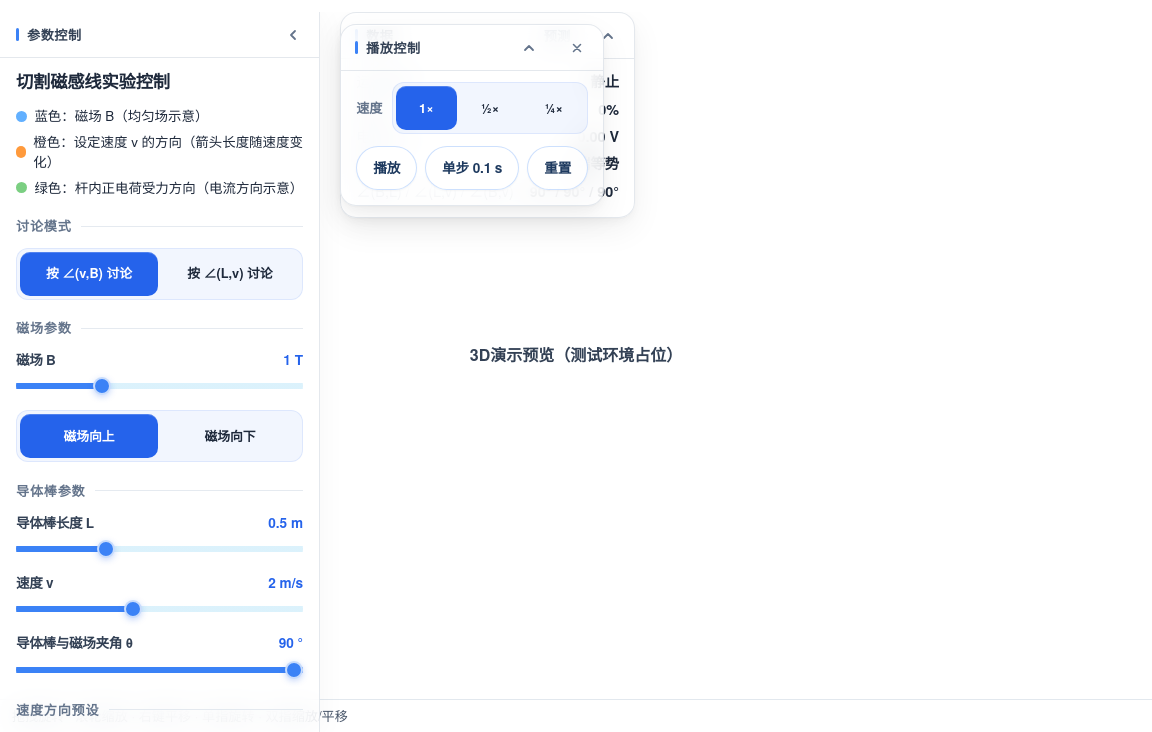
motional-emf structure › renders both discussion modes and updates voltage in each mode
Expected: the heading "切割磁感线实验控制" is shown, [16,69,170,93]
Expected: the heading "速度方向预设" is shown, [16,700,99,719]
Click the button "播放". click: (387, 168)
box: [356,146,417,190]
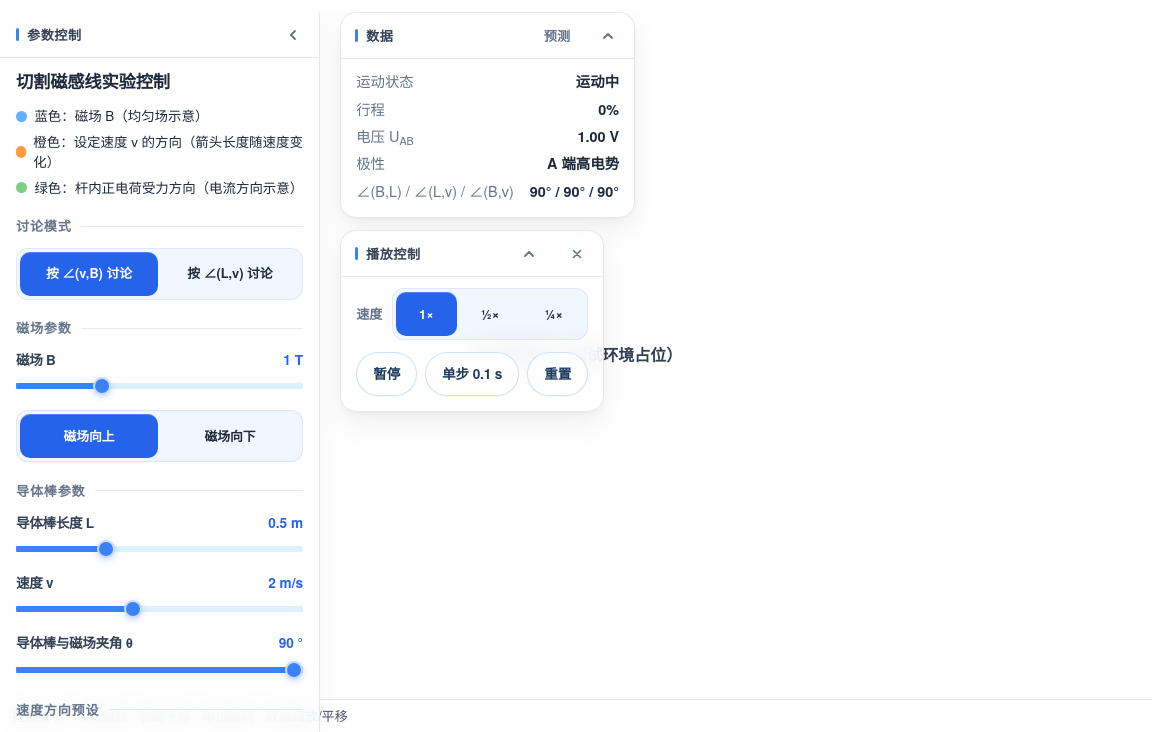
Now the text "1.00 V" is shown, box [577,126,619,148]
Click the button "暂停". click: (387, 374)
box: [356,352,417,396]
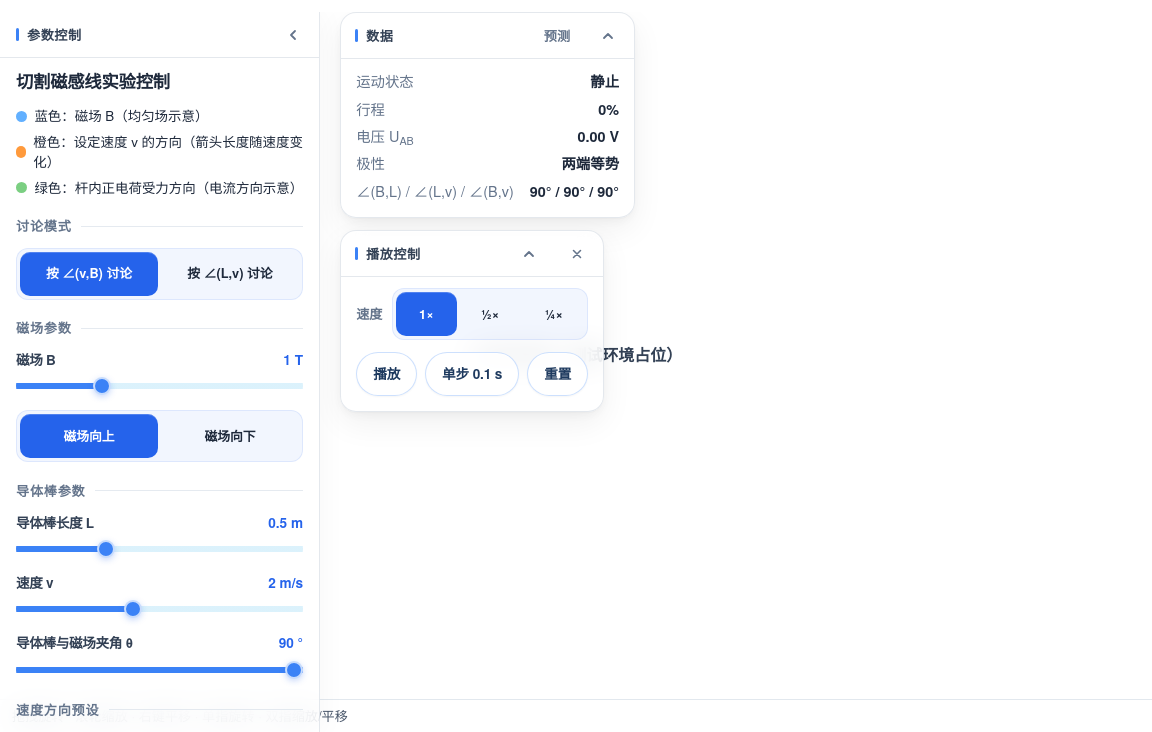
Click the radio button labelled "按 ∠(L,v) 讨论". click: (230, 274)
box: [161,252,299,296]
(page scrolled)
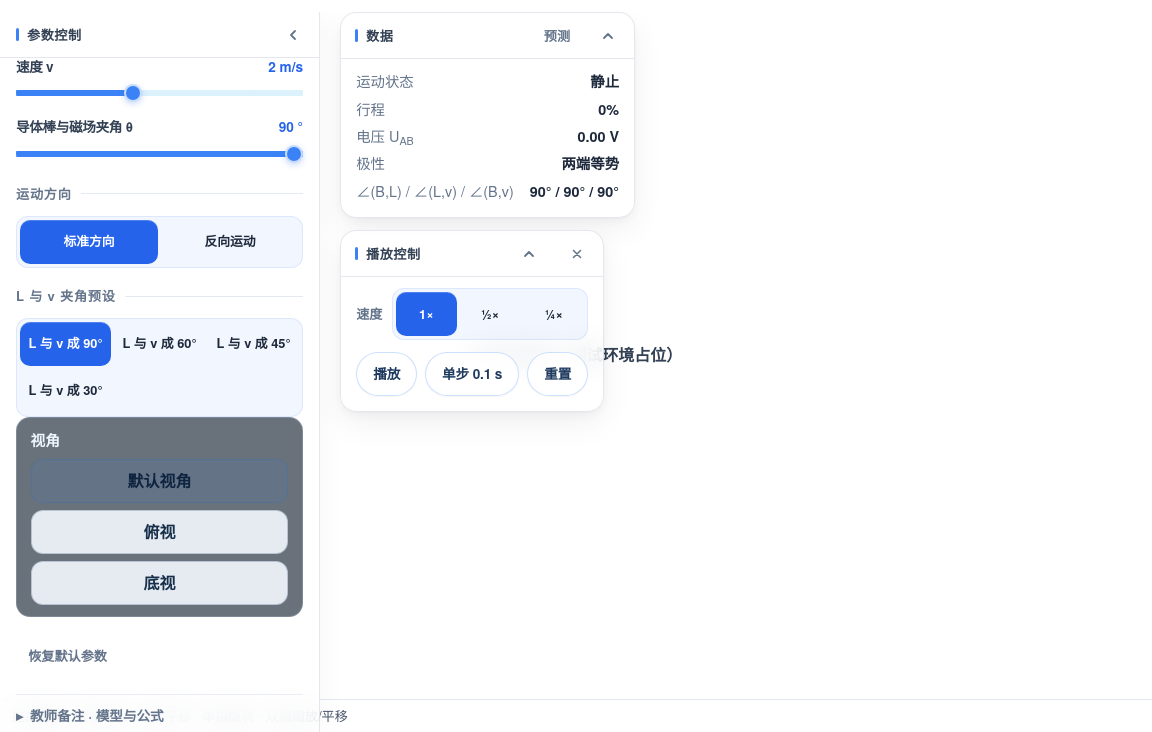
Now the heading "L 与 v 夹角预设" is shown, box [16,286,116,305]
Click the radio button labelled "L 与 v 成 30°". click: (66, 391)
box: [20,369,111,413]
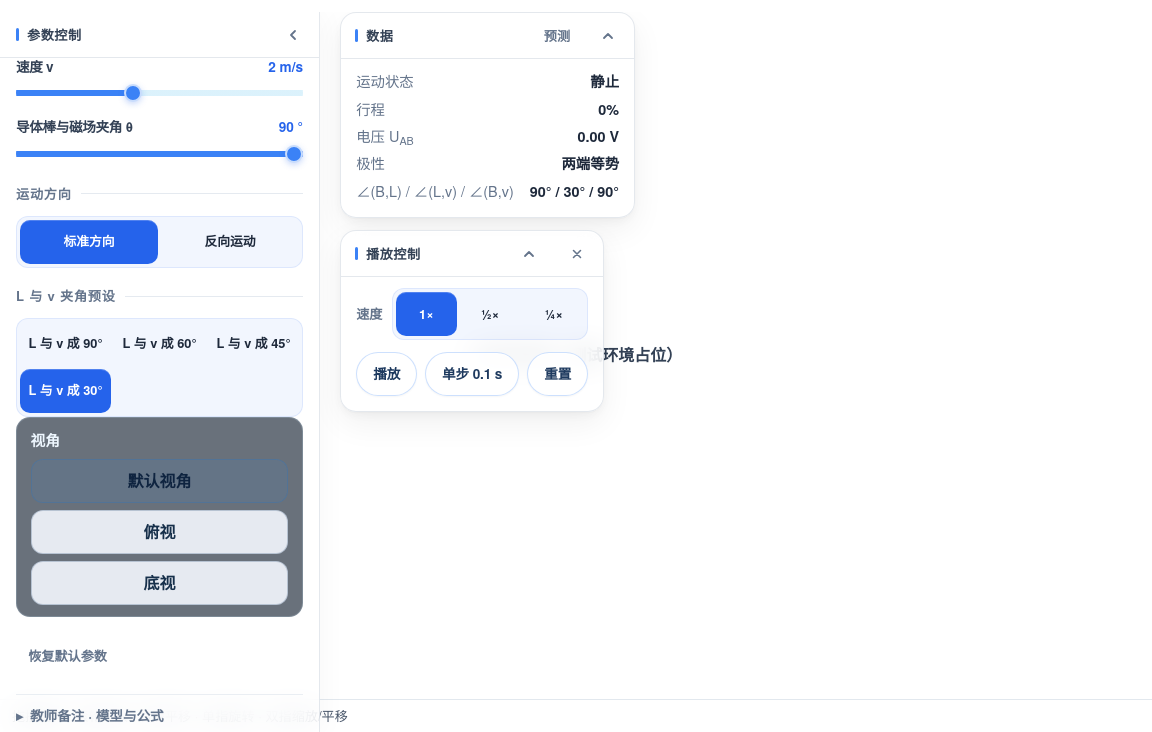
Click the button "播放". click: (387, 374)
box: [356,352,417,396]
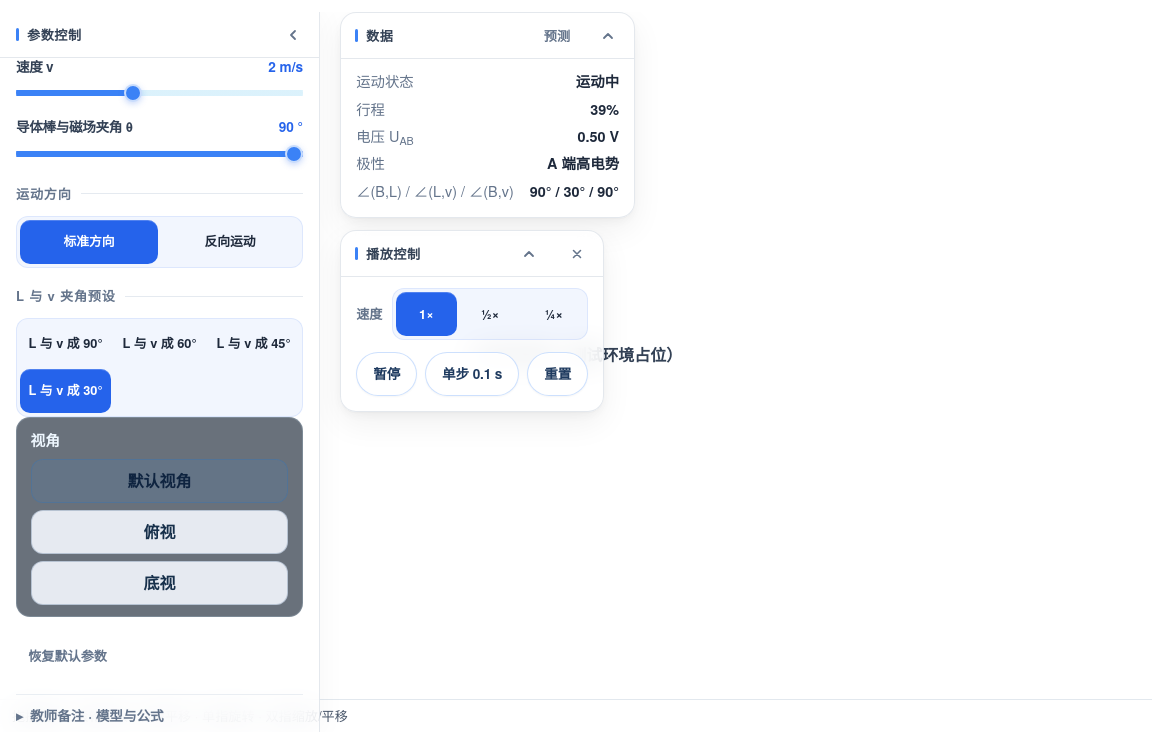
Now the text "0.50 V" is shown, box [577,126,619,148]
